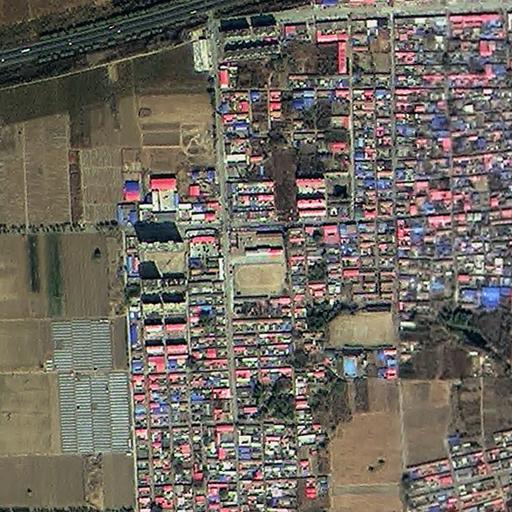school: (228, 226, 286, 297)
